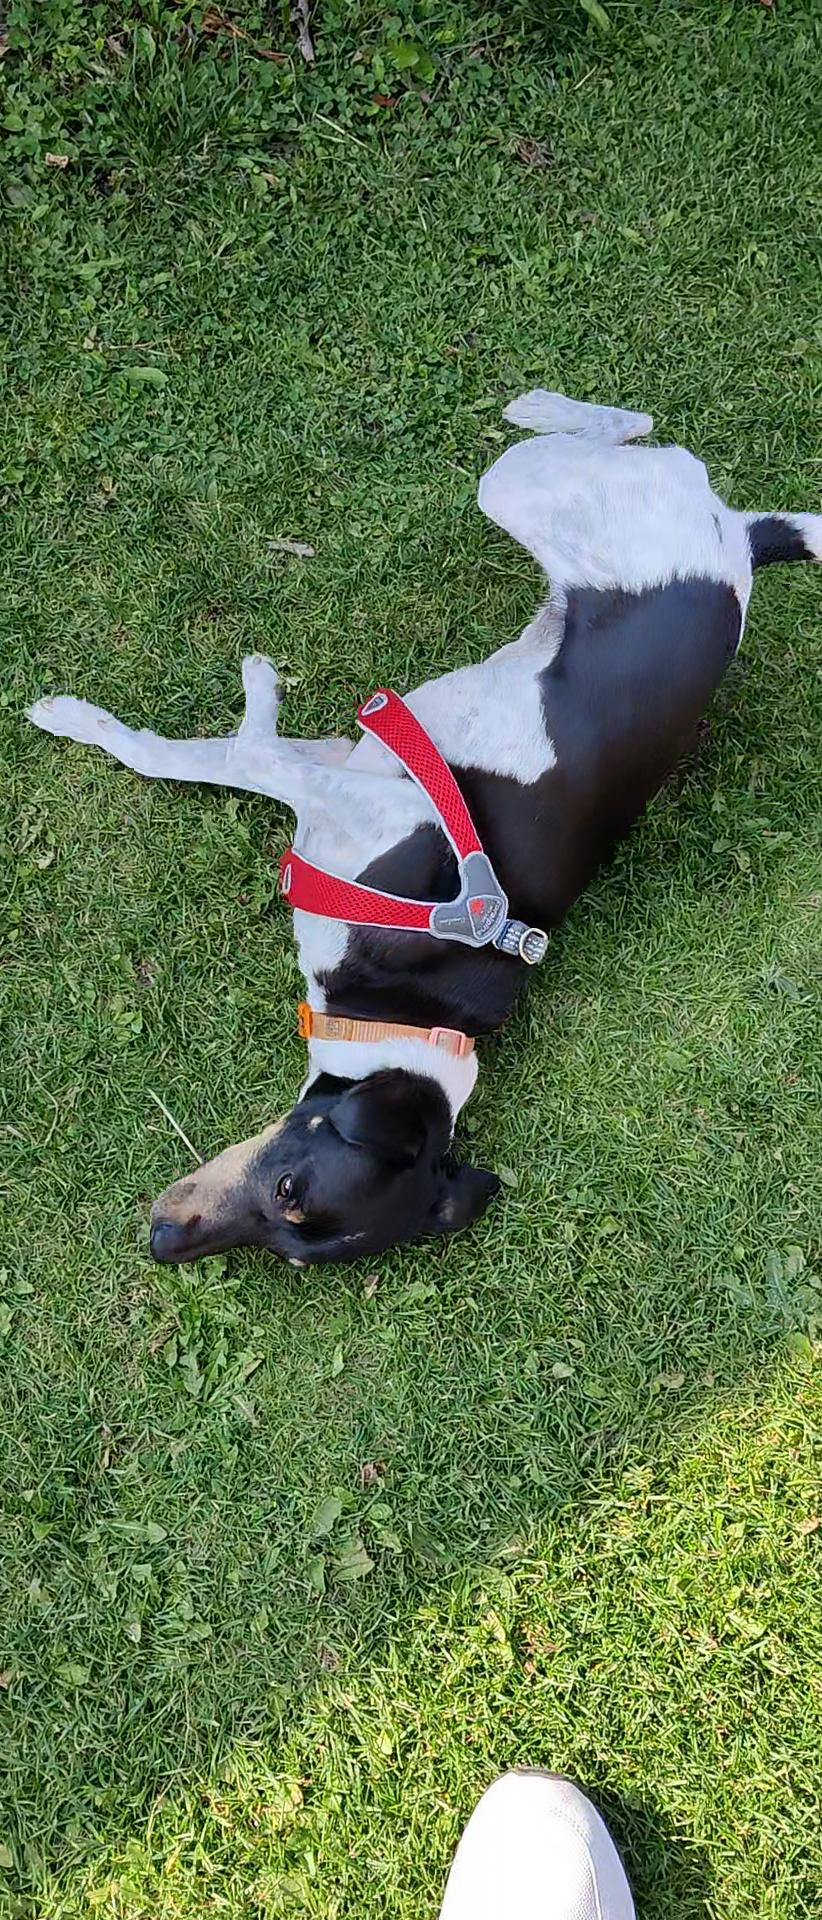Dog: (13, 360, 821, 1300)
